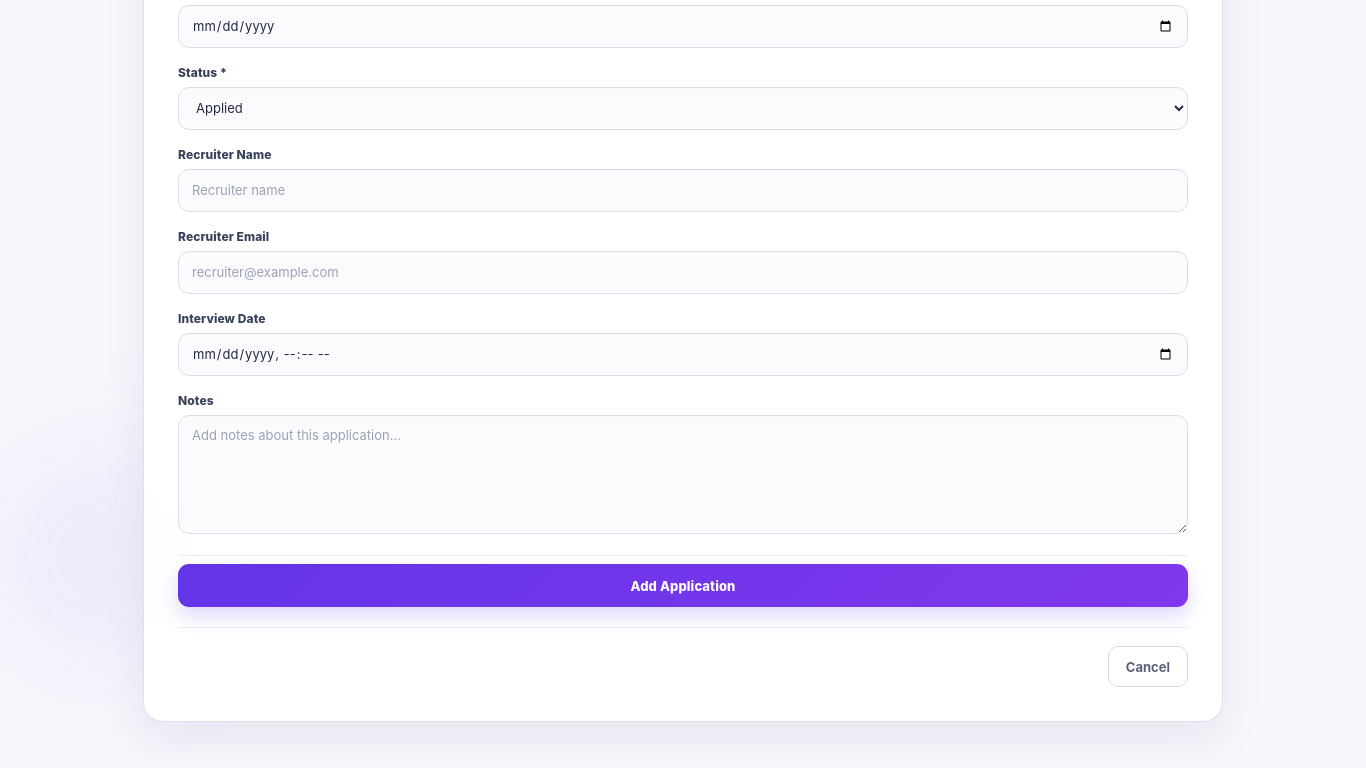
Test: Add Application page › shows validation errors for required fields
The width and height of the screenshot is (1366, 768).
(page scrolled)
Click the button "Add Application" at point(683, 586), box top-left (178, 564), bottom-right (1188, 607)
(page scrolled)
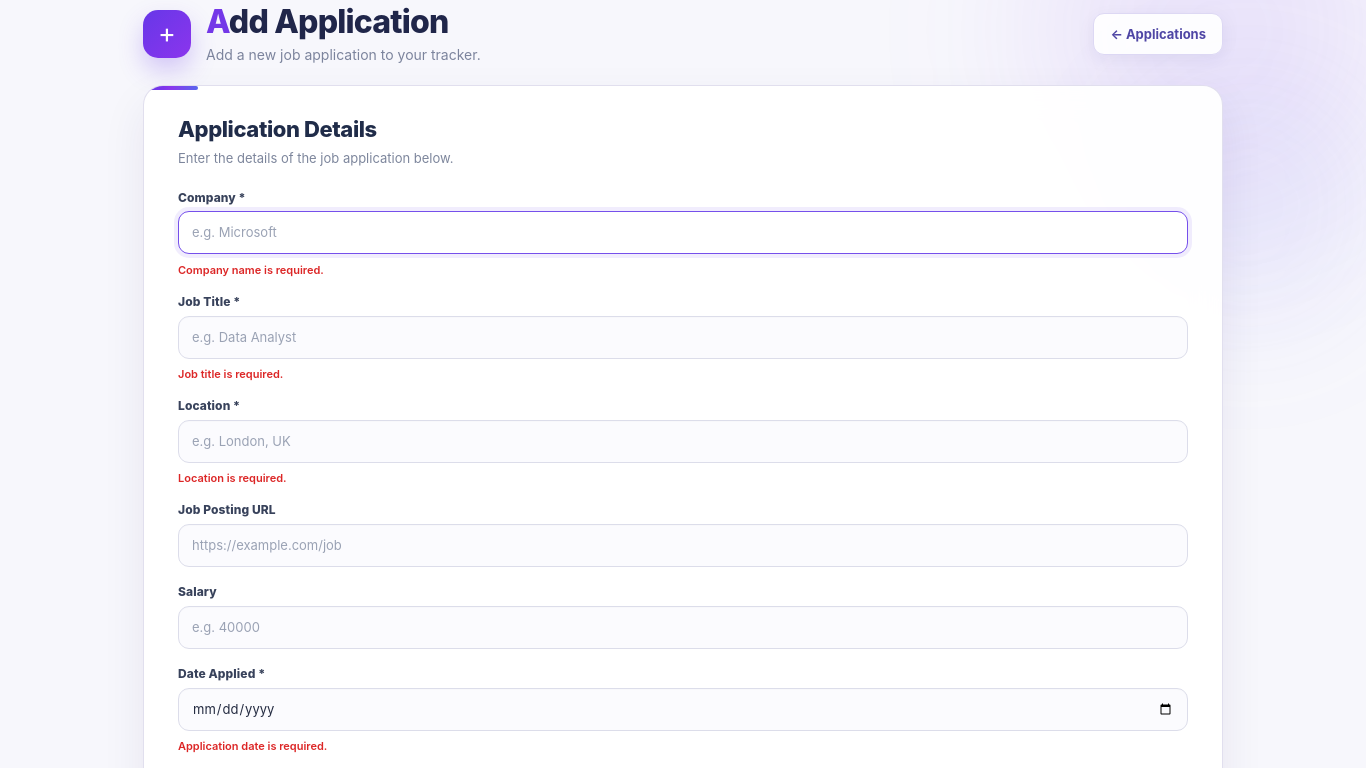
Expected: the text "Company name is required." is shown, top-left (178, 263), bottom-right (324, 277)
Expected: the text "Job title is required." is shown, top-left (178, 367), bottom-right (283, 381)
Expected: the text "Location is required." is shown, top-left (178, 471), bottom-right (286, 485)
